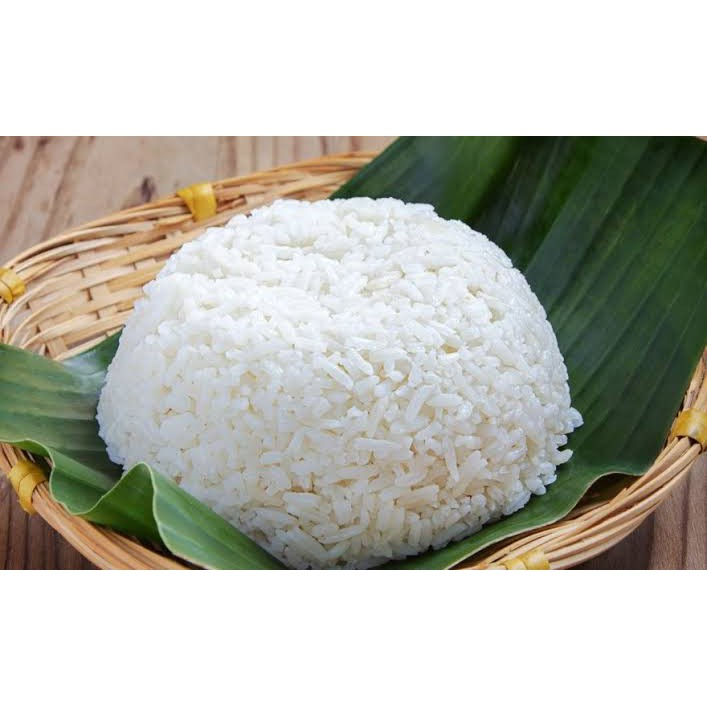Nasi Putih: (1, 174, 602, 544)
